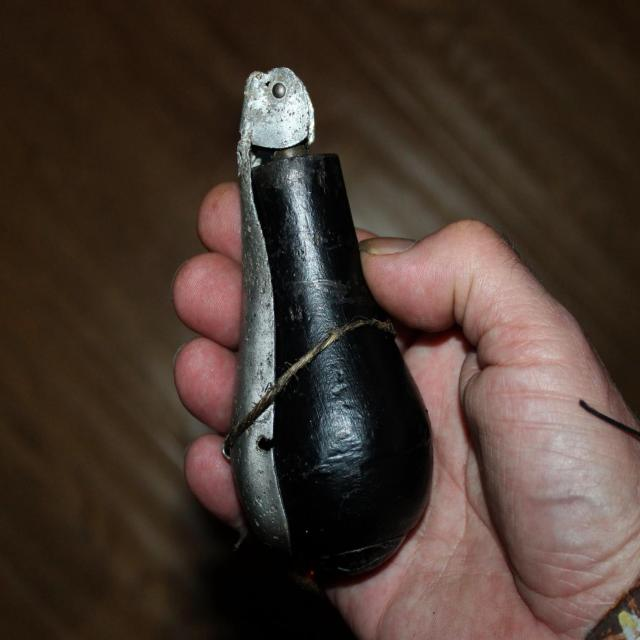grenade: (228, 64, 434, 589)
